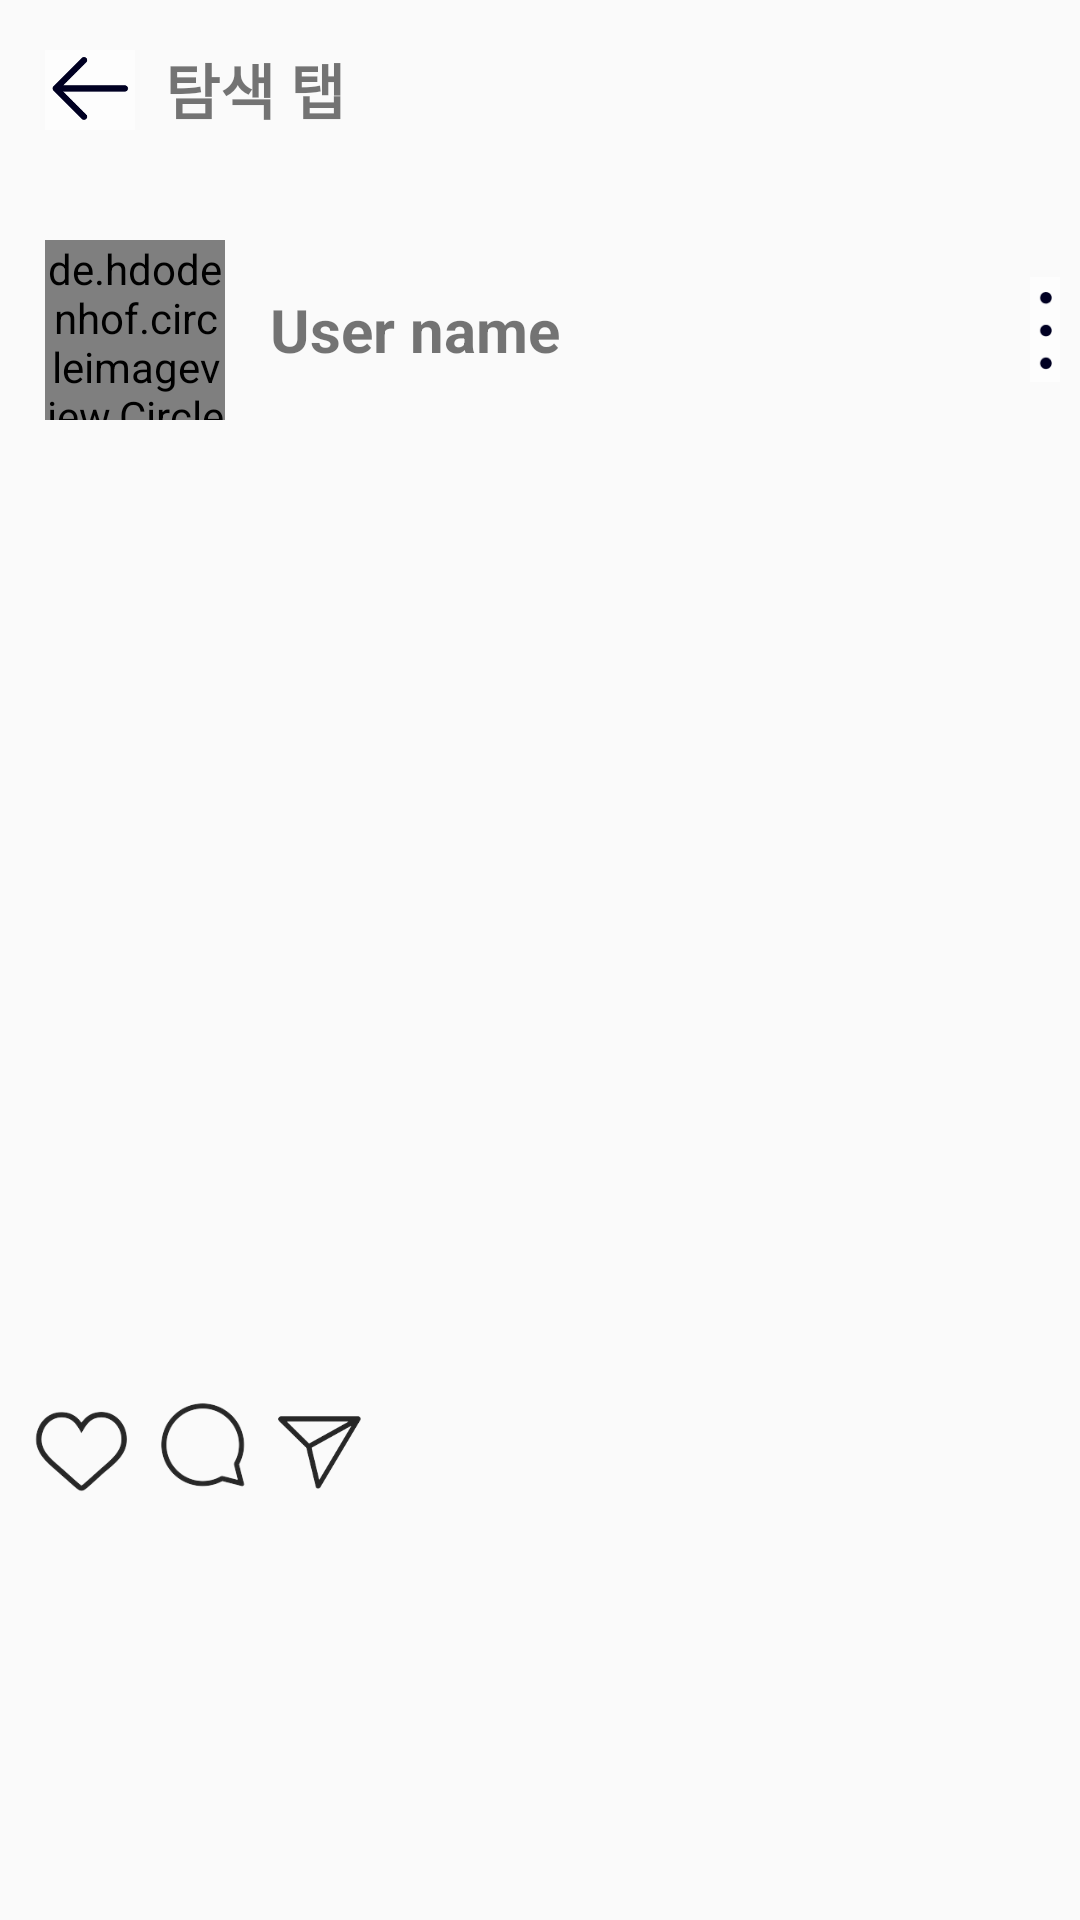

Icon bounding boxes for this 1080×1920 phone screenshot, format (x1, y1, x2, y2):
back: (52, 57, 128, 120)
